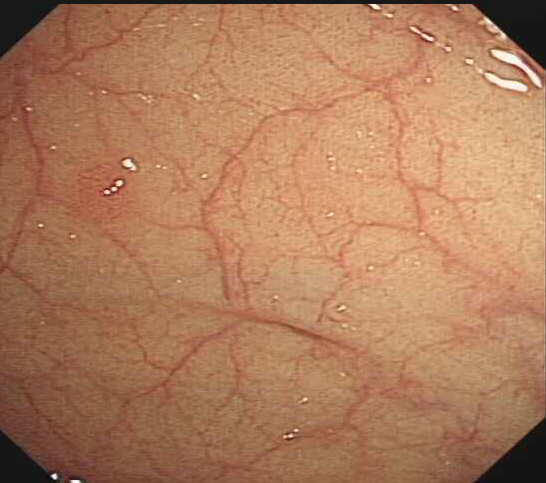adenoma: (66, 160, 136, 229)
